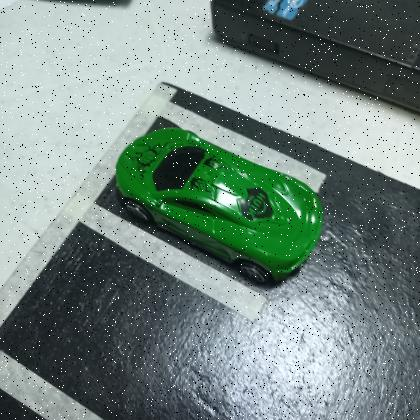Car: (115, 127, 323, 283)
